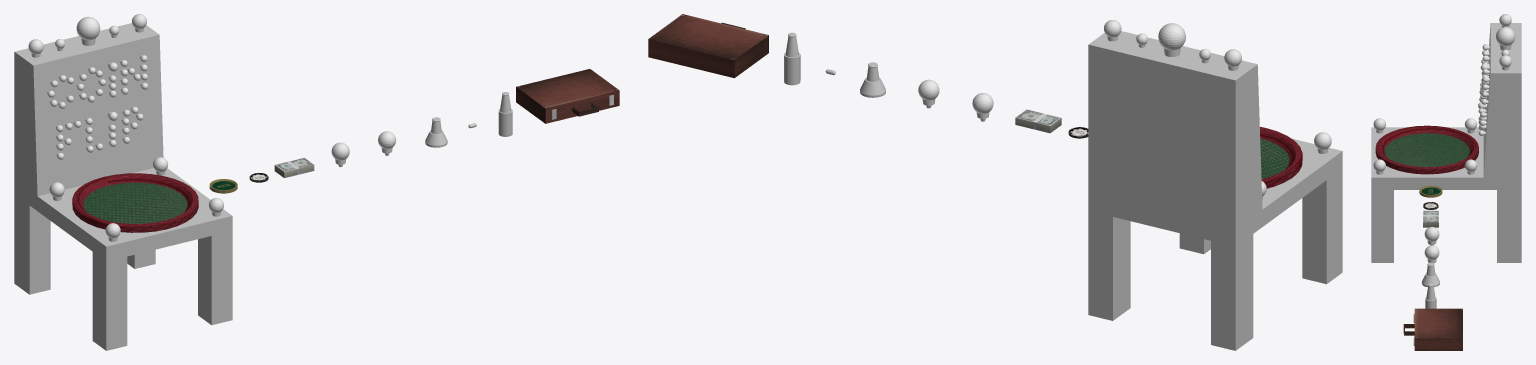
Rendered from коинфлип машина 3д.fbx.
The picture shows the model from 3 angles, left to right: view 1: azimuth 30°, elevation 25°; view 2: azimuth 150°, elevation 25°; view 3: azimuth 270°, elevation 25°; orthographic projection. The views are drawn at different scales.
Visible parts, largest first — view 1: Cube, Cylinder.001, Cube.003, Cylinder.003, Cube.001, Sphere.062; view 2: Cube, Cube.003, Cylinder.001, Cube.001, Cylinder.003, Sphere.062, Cylinder.002; view 3: Cube, Cylinder.001, Cube.003, Sphere.062, Cylinder.002, Cube.001, Cylinder.003, Cylinder, Sphere.058, Sphere.063, Sphere.003, Sphere (+4 smaller).
Part boxes in pixels (bbox=[...]): Cube: bbox=[14, 23, 232, 350]; Cylinder.001: bbox=[72, 173, 198, 232]; Cube.003: bbox=[516, 69, 619, 123]; Cylinder.003: bbox=[498, 92, 512, 136]; Cube.001: bbox=[274, 157, 314, 177]; Sphere.062: bbox=[76, 16, 100, 45]; Cube: bbox=[1088, 31, 1342, 350]; Cube.003: bbox=[648, 14, 768, 78]; Cylinder.001: bbox=[1260, 127, 1302, 188]; Cube.001: bbox=[1015, 109, 1061, 133]; Cylinder.003: bbox=[784, 32, 800, 85]; Sphere.062: bbox=[1158, 23, 1185, 56]; Cylinder.002: bbox=[860, 62, 885, 97]; Cube: bbox=[1371, 23, 1521, 262]; Cylinder.001: bbox=[1375, 125, 1478, 174]; Cube.003: bbox=[1414, 308, 1462, 350]; Sphere.062: bbox=[1496, 27, 1515, 50]; Cylinder.002: bbox=[1421, 262, 1439, 287]; Cube.001: bbox=[1423, 210, 1438, 227]; Cylinder.003: bbox=[1425, 283, 1436, 308]; Cylinder: bbox=[1419, 185, 1442, 197]; Sphere.058: bbox=[1424, 227, 1439, 245]; Sphere.063: bbox=[1424, 245, 1439, 263]; Sphere.003: bbox=[1373, 159, 1385, 174]; Sphere: bbox=[1464, 159, 1477, 174].
Size of the model in its own units: 699 by 319 by 206.
